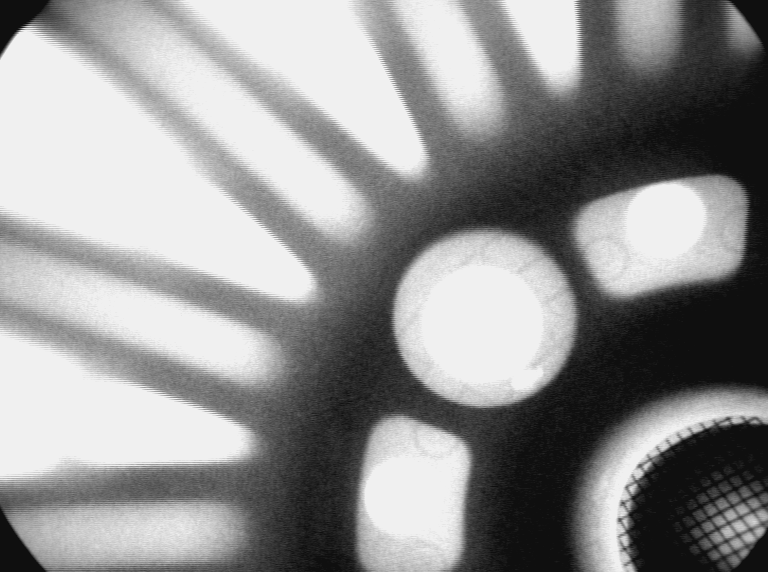defect: (510, 363, 549, 397)
